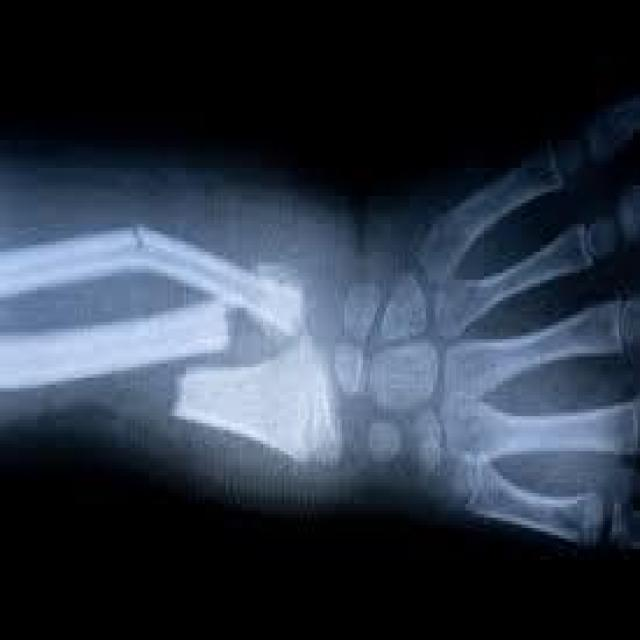bone: (151, 294, 242, 431), (122, 220, 157, 284)
